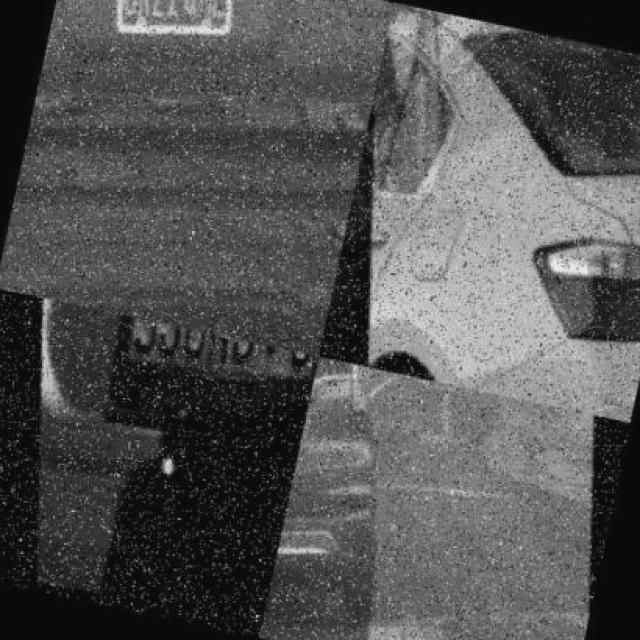licenseplate: (99, 313, 317, 457), (97, 0, 242, 64), (298, 409, 334, 465), (424, 379, 435, 387)
